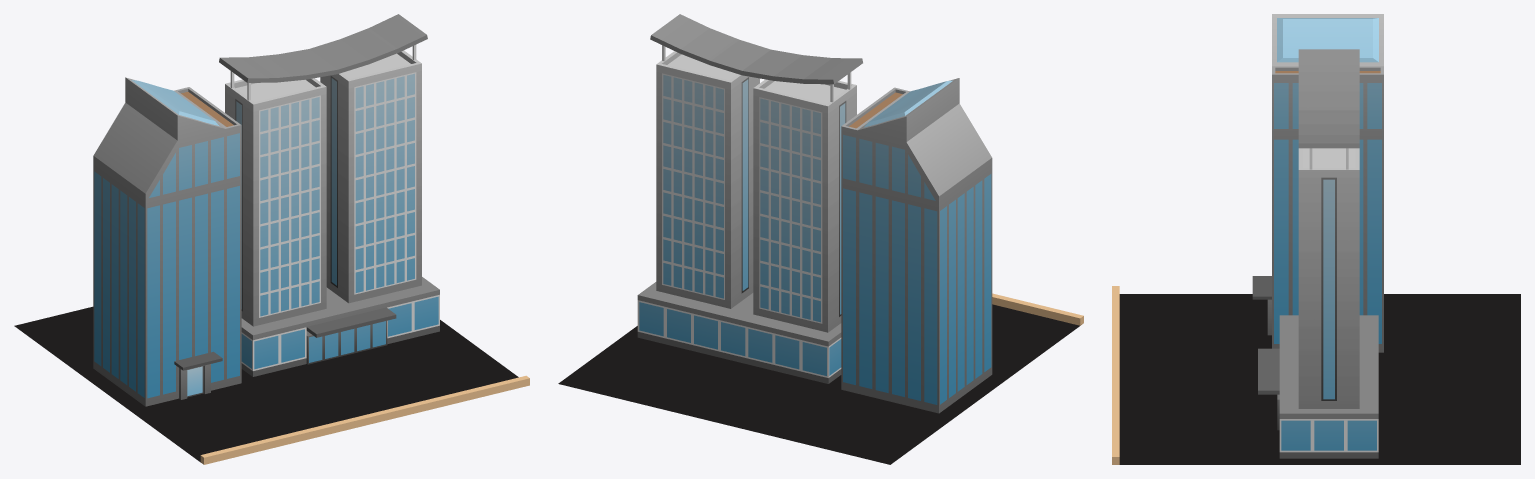
The model's file is Tile 29_Combined.fbx.
3 views of the same model, side by side, from view 1: azimuth 30°, elevation 25°; view 2: azimuth 150°, elevation 25°; view 3: azimuth 270°, elevation 25° (orthographic). The views are drawn at different scales.
Parts seen in each view (by area): view 1: MeshBaker_Cluster_0_mesh_mesh; view 2: MeshBaker_Cluster_0_mesh_mesh; view 3: MeshBaker_Cluster_0_mesh_mesh.
Part boxes in pixels (x1,y1,x2,y2): MeshBaker_Cluster_0_mesh_mesh: [14, 14, 529, 464]; MeshBaker_Cluster_0_mesh_mesh: [558, 14, 1083, 464]; MeshBaker_Cluster_0_mesh_mesh: [1112, 14, 1520, 464].
Bounding box in the file's own units: 3000 × 2560 × 3029.
